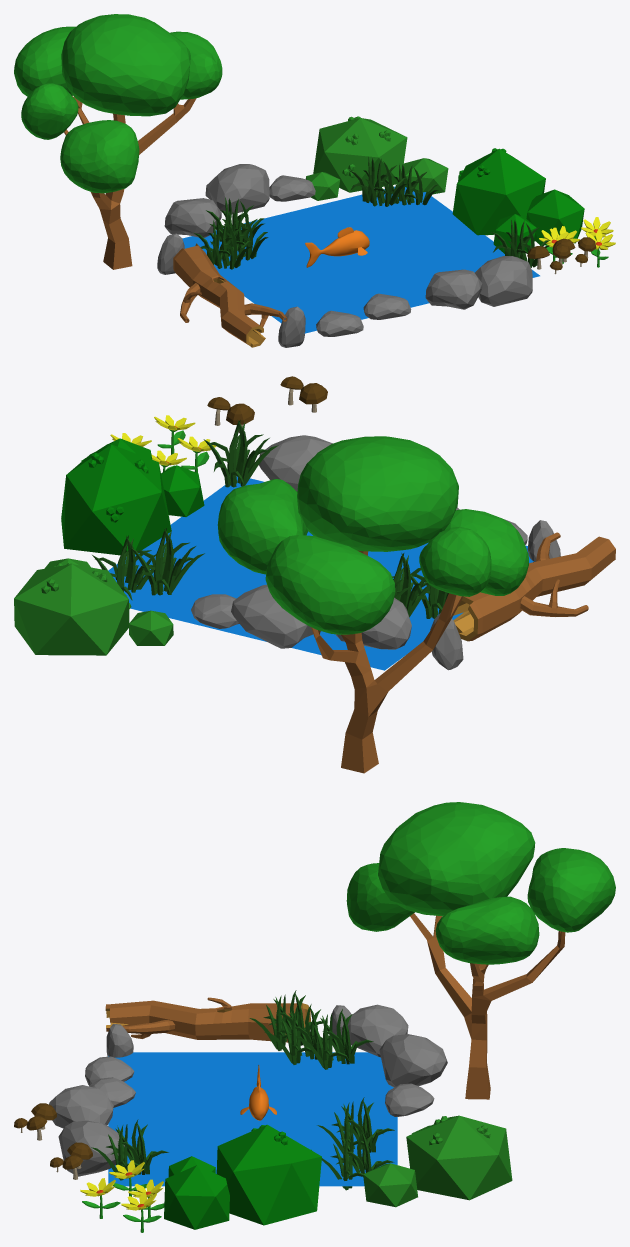
File: fish.gltf
3 views of the same model, one above another, from view 1: azimuth 30°, elevation 25°; view 2: azimuth 150°, elevation 25°; view 3: azimuth 270°, elevation 25° (orthographic). The views are drawn at different scales.
Parts seen in each view (by area): view 1: Plane.002, Plane.047, Icosphere.006, Icosphere.009, Circle.008, Icosphere.001, Icosphere.007, Icosphere.008, Icosphere, Cube.034, Cube.035, fish low poly (+9 smaller); view 2: Plane.002, Icosphere.006, Plane.047, Icosphere.009, Circle.008, Icosphere.001, Icosphere.007, Cube.038, Cube.034, Icosphere, Cube.033, Icosphere.002 (+7 smaller); view 3: Plane.002, Plane.047, Icosphere.006, Icosphere.009, Circle.008, Icosphere.001, Icosphere.007, Icosphere, Icosphere.008, Cube.037, Cube.038, Cube.036 (+10 smaller).
Part boxes in pixels (x1,y1,x2,y2): Plane.002: (14,14,222,269); Plane.047: (182,186,539,333); Icosphere.006: (452,148,584,253); Icosphere.009: (305,116,448,200); Circle.008: (173,243,287,347); Icosphere.001: (205,164,269,214); Icosphere.007: (475,256,532,306); Icosphere.008: (425,269,482,309); Icosphere: (164,198,221,237); Cube.034: (348,157,407,206); Cube.035: (194,220,252,269); fish low poly: (305,227,369,267); Plane.002: (217,436,528,773); Icosphere.006: (61,438,204,555); Plane.047: (108,476,533,670); Icosphere.009: (14,558,173,655); Circle.008: (453,532,615,641); Icosphere.001: (231,584,313,648); Icosphere.007: (259,435,332,491); Cube.038: (203,420,278,487); Cube.034: (130,528,204,595); Icosphere: (335,597,411,649); Cube.033: (92,535,165,600); Icosphere.002: (191,594,239,628); Plane.002: (346,802,615,1099); Plane.047: (108,1052,397,1186); Icosphere.006: (164,1124,321,1229); Icosphere.009: (363,1115,512,1207); Circle.008: (105,997,310,1042); Icosphere.001: (379,1034,447,1087); Icosphere.007: (58,1120,124,1176); Icosphere: (341,1004,408,1057); Icosphere.008: (49,1085,113,1128); Cube.037: (296,1009,373,1069); Cube.038: (91,1119,168,1180); Cube.036: (264,1004,342,1064).
Size of the model in its own units: 1.69 by 0.8997 by 1.76.
